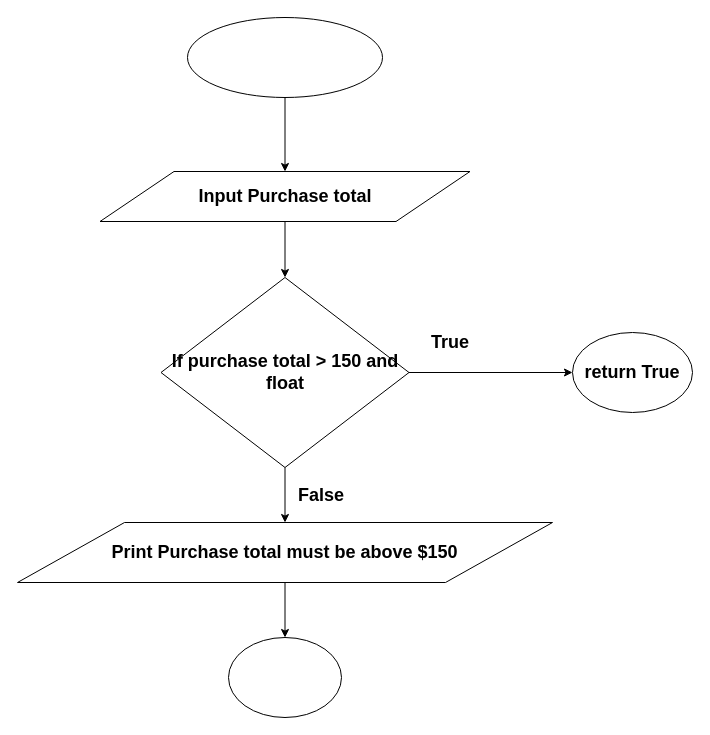
This 710x735 diagram has some shape labels left out. Each missing label, with the box of its shape:
checkPurchaseTotal: (186, 16, 382, 98)
return False: (228, 636, 342, 718)
